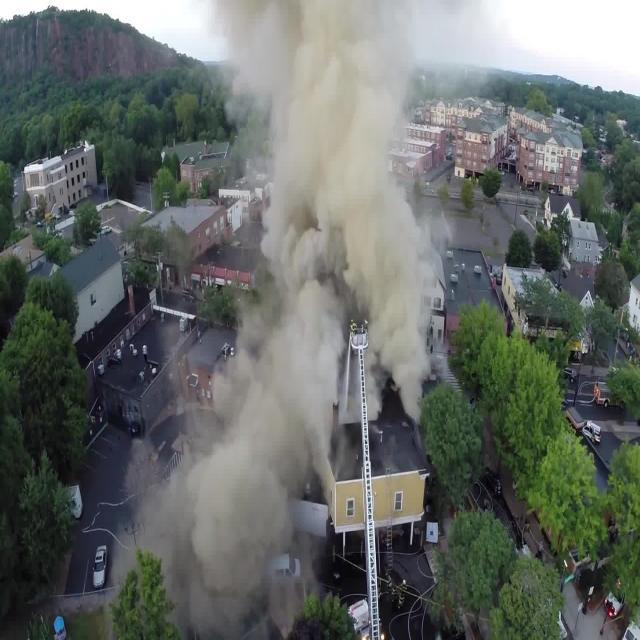Smoke: (268, 8, 382, 202), (305, 210, 415, 322), (220, 377, 285, 539)
